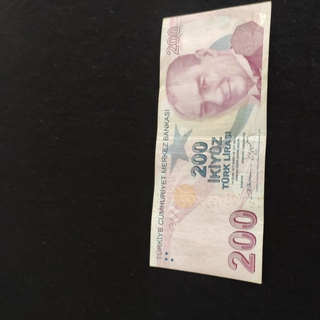200TLFront: (149, 1, 272, 284)
